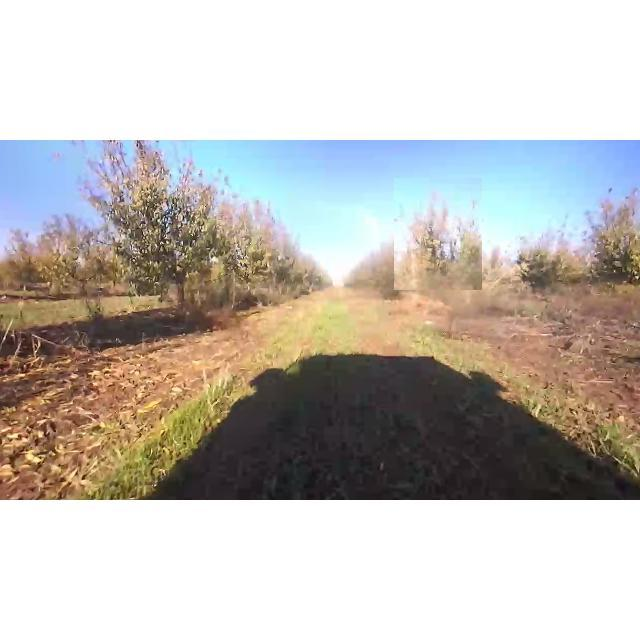direk: (59, 143, 230, 321), (394, 178, 482, 290)
